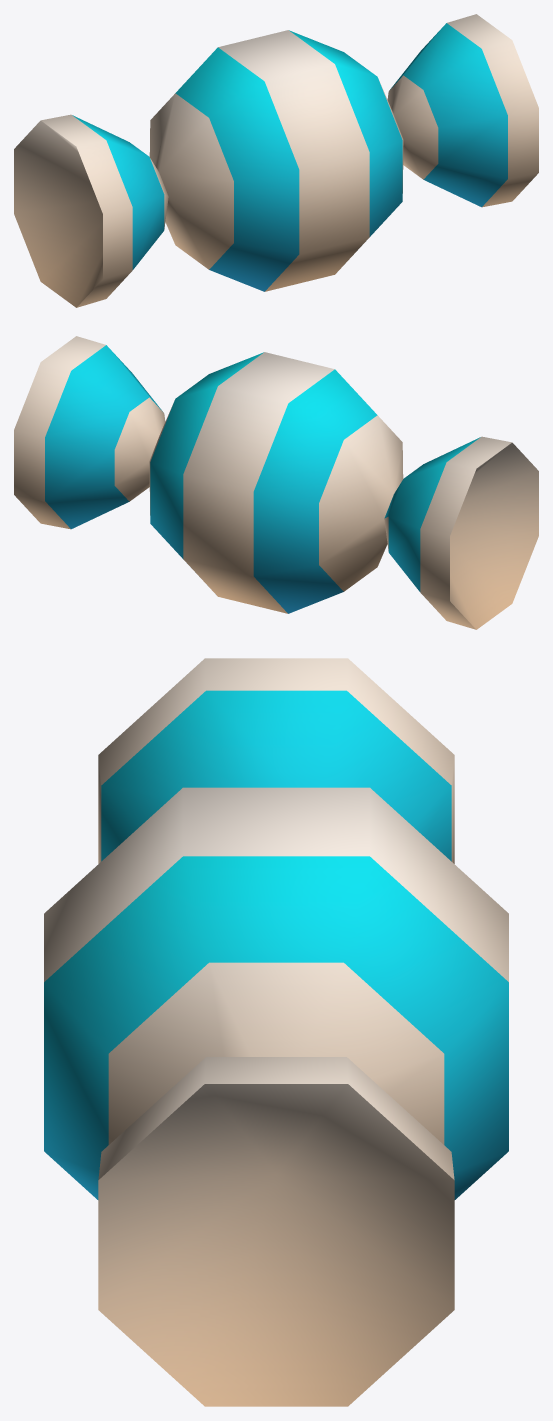
File: candy_blue_A.fbx
The picture shows the model from 3 angles, top to bottom: view 1: azimuth 30°, elevation 25°; view 2: azimuth 150°, elevation 25°; view 3: azimuth 270°, elevation 25°; orthographic projection. The views are drawn at different scales.
Visible parts, largest first — view 1: candy_blue_A; view 2: candy_blue_A; view 3: candy_blue_A.
Part boxes in pixels (left/top/right/bottom): candy_blue_A: left=14, top=14, right=538, bottom=307; candy_blue_A: left=14, top=336, right=538, bottom=629; candy_blue_A: left=44, top=658, right=508, bottom=1406.
Size of the model in its own units: 65 by 30 by 30.
